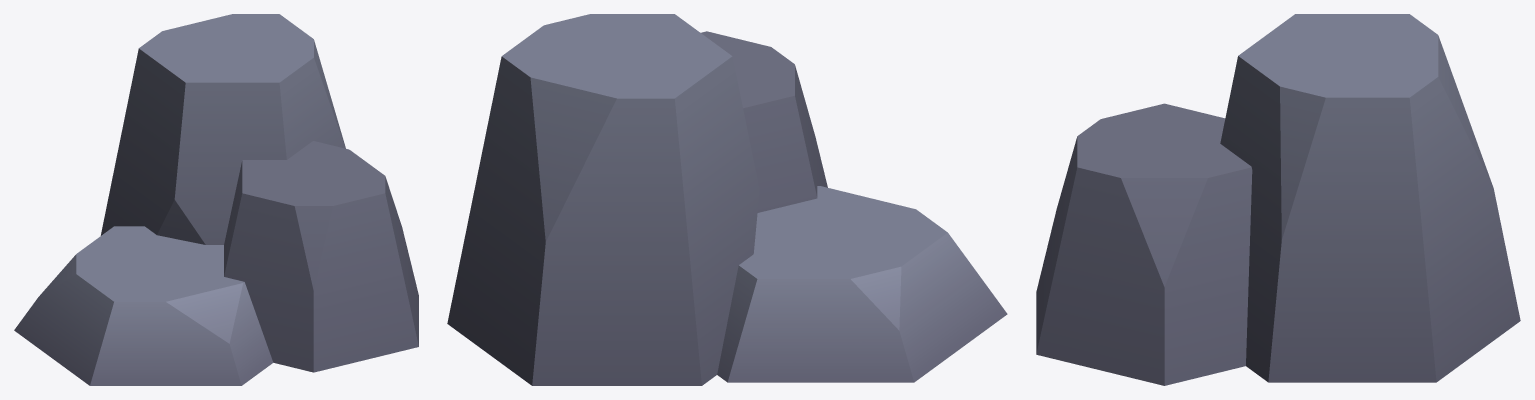
Rendered from rocks.glb.
3 renders of one model, left to right at view 1: azimuth 30°, elevation 25°; view 2: azimuth 150°, elevation 25°; view 3: azimuth 270°, elevation 25°, orthographic. The views are drawn at different scales.
Parts seen in each view (by area): view 1: rocks; view 2: rocks; view 3: rocks.
Boxes of the visible parts, x1,y1,x2,y2 form: rocks: [14, 14, 418, 385]; rocks: [447, 14, 1007, 385]; rocks: [1036, 14, 1520, 385].
Size of the model in its own units: 0.6531 by 0.4 by 0.6623.
Materials: 1 (1 with a texture image).
